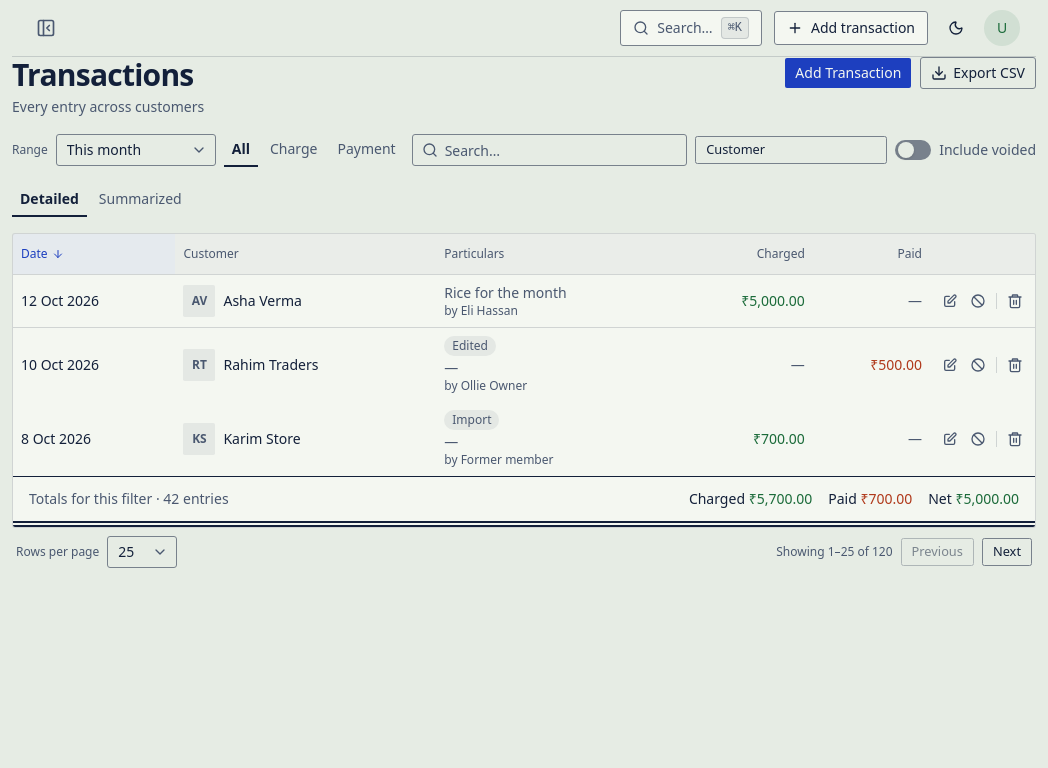
Scenario: S-35 transactions page v2 › totals for the current filter cover everything matching, not only the visible page
Expected: the text "₹5,700.00" is shown, [749,488,812,508]
Expected: the text "₹700.00" next to "Net" is shown, [860,488,912,508]
Click the button "Next".
click(1007, 552)  # box [982,538,1032,566]
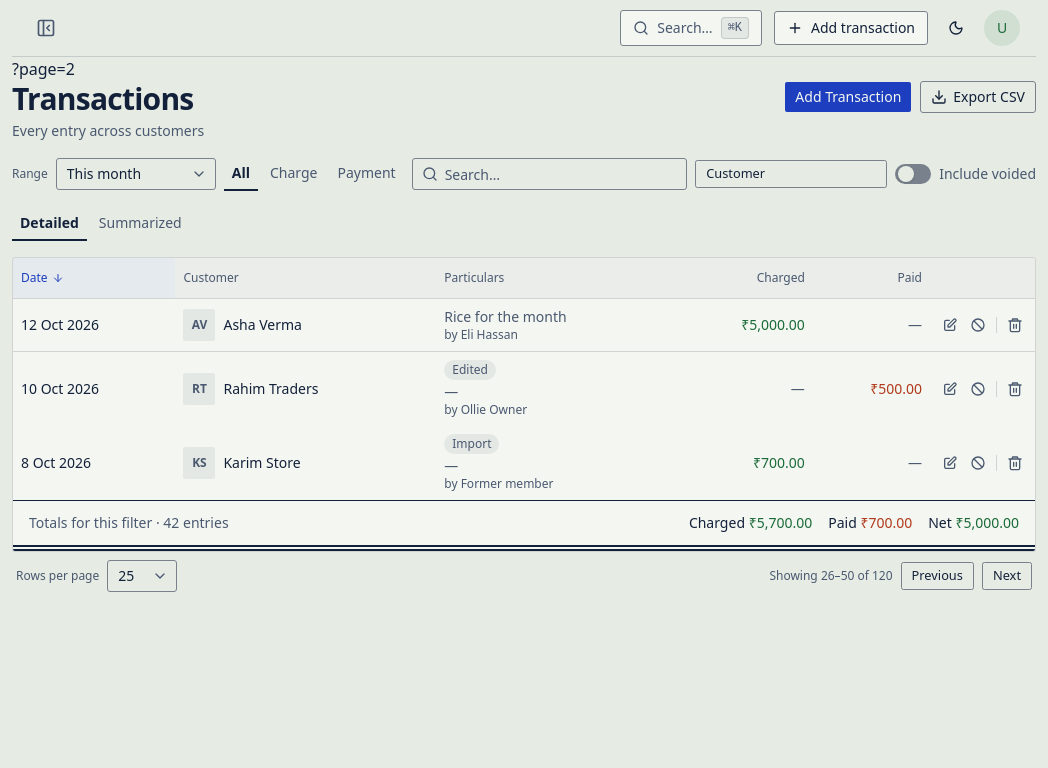
Expected: the text "₹5,700.00" is shown, [749,512,812,532]
Result: the text with test id "url" shows "page=2" at [12,58,75,80]
